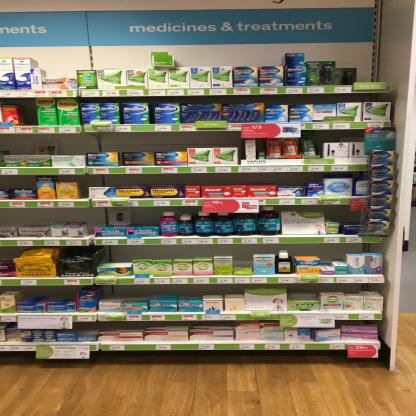Void: (4, 134, 82, 154), (94, 135, 180, 149), (4, 210, 46, 225), (187, 132, 234, 144), (104, 288, 145, 301), (332, 209, 360, 224), (103, 247, 128, 263), (360, 69, 387, 82), (134, 209, 157, 224), (234, 250, 252, 267), (56, 211, 83, 222), (20, 102, 31, 126), (296, 288, 318, 298)
